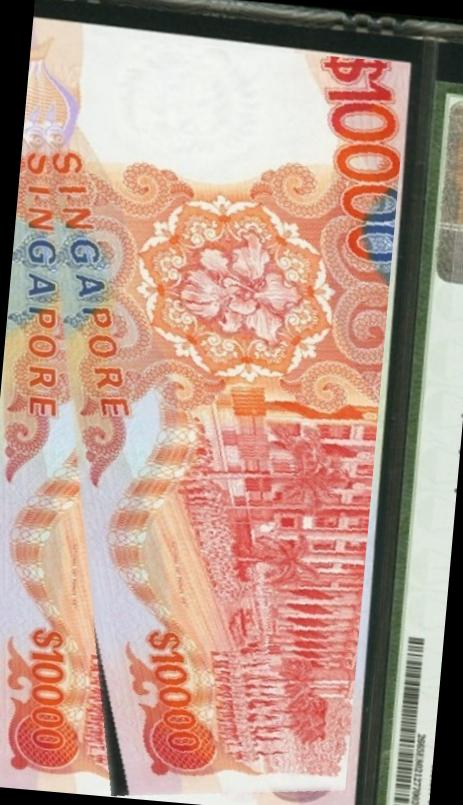10000SingaporeDollar: (0, 30, 408, 805)
